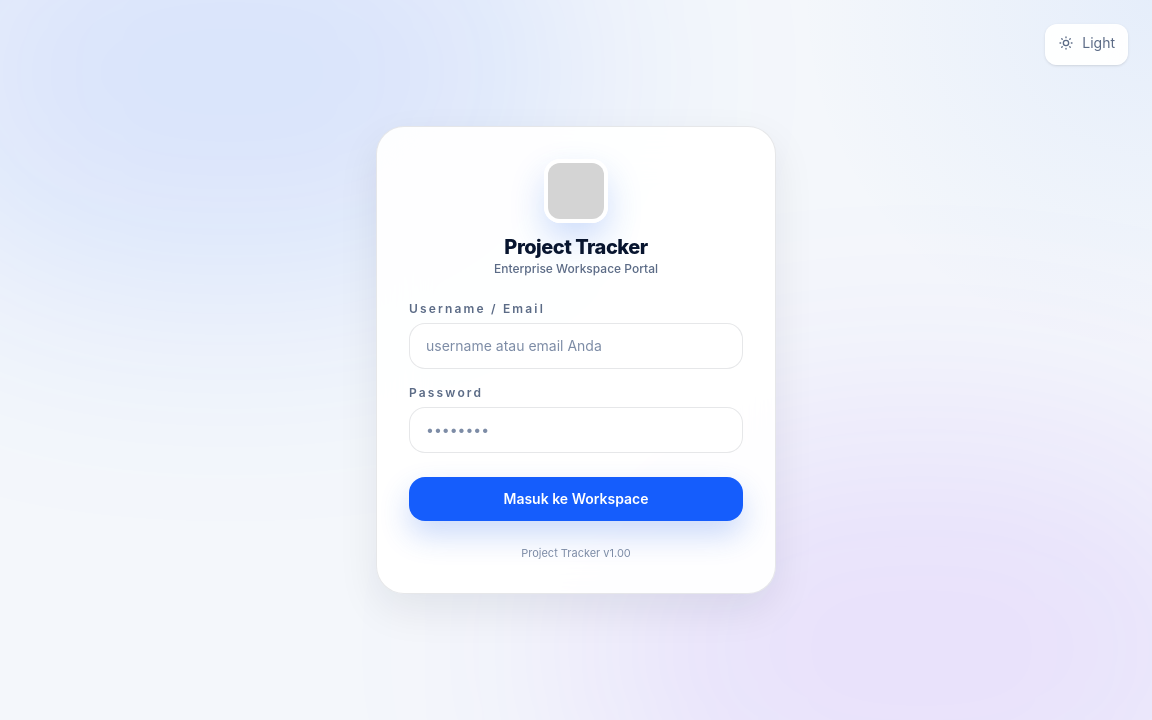
Test case: LoginPage › shows the API error detail when login fails
Type "admin" into the field labelled "Username / Email" at coordinates (576, 346), box [409,323,743,369]
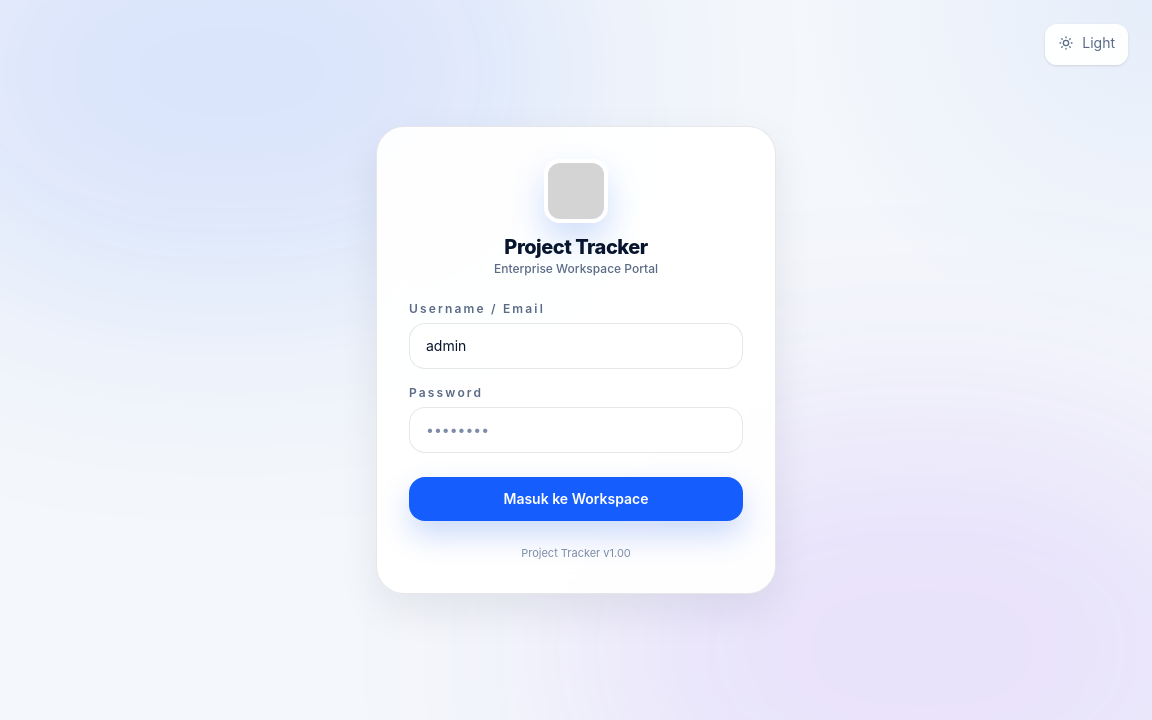
Type "secret" into the password field labelled "Password" at coordinates (576, 430), box [409,407,743,453]
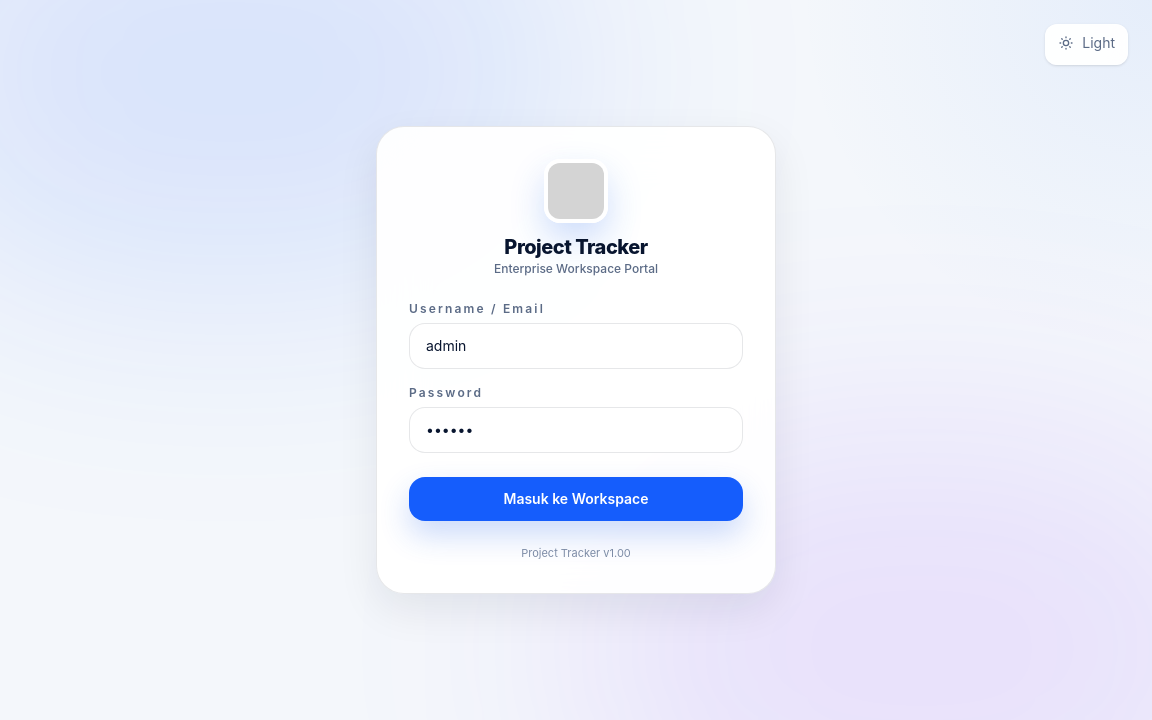
Click the button "Masuk ke Workspace" at coordinates (576, 499), box [409,477,743,521]
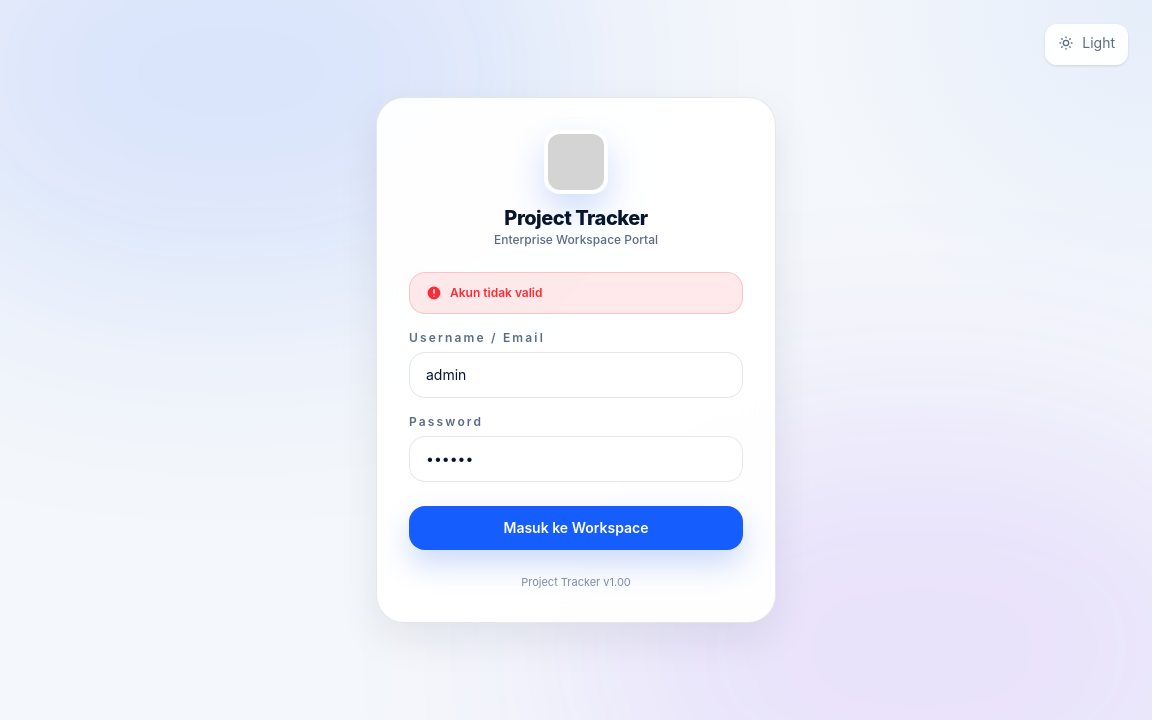
Expected: the text "Akun tidak valid" is shown, [450,285,542,301]
